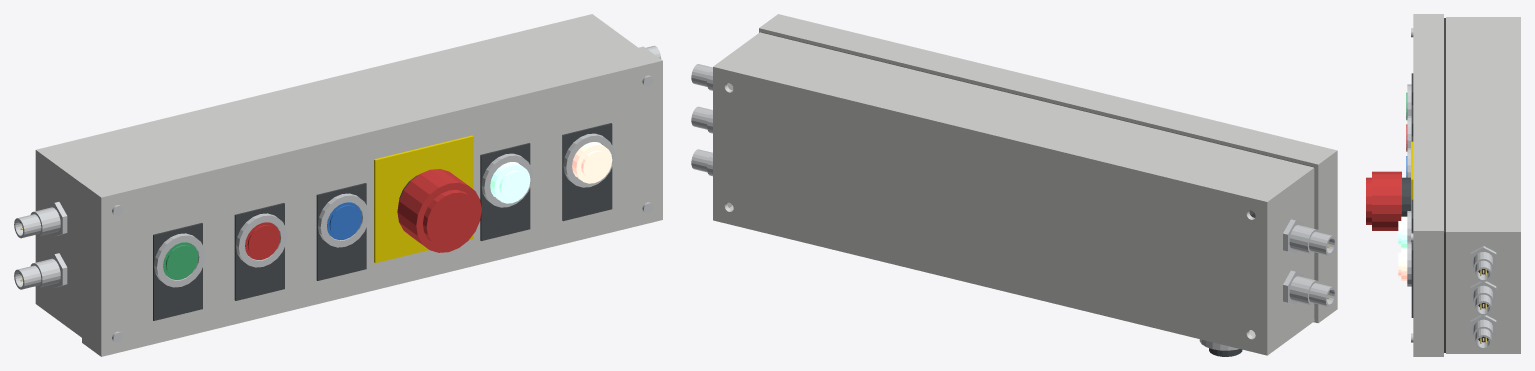
File: pbs-6h-22.glb
The picture shows the model from 3 angles, left to right: view 1: azimuth 30°, elevation 25°; view 2: azimuth 150°, elevation 25°; view 3: azimuth 270°, elevation 25°; orthographic projection. The views are drawn at different scales.
Visible parts, largest first — view 1: lid-1, body, estop-1, lamp-run, lamp-fault, btn-reset, btn-start, btn-stop, s-es, s-x5; view 2: body, lid-1, s-x5, s-es; view 3: body, lid-1, estop-1, lamp-fault, lamp-run, s-x3, s-x1, s-x2.
Boxes of the visible parts, x1=… form: lid-1: x1=82, y1=46, x2=662, y2=356; body: x1=14, y1=14, x2=661, y2=337; estop-1: x1=397, y1=169, x2=481, y2=252; lamp-run: x1=490, y1=162, x2=530, y2=203; lamp-fault: x1=572, y1=142, x2=612, y2=183; btn-reset: x1=327, y1=202, x2=362, y2=240; btn-start: x1=163, y1=242, x2=198, y2=279; btn-stop: x1=245, y1=222, x2=280, y2=259; s-es: x1=30, y1=207, x2=60, y2=236; s-x5: x1=30, y1=258, x2=60, y2=287; body: x1=691, y1=32, x2=1335, y2=356; lid-1: x1=759, y1=14, x2=1337, y2=323; s-x5: x1=1289, y1=276, x2=1319, y2=305; s-es: x1=1289, y1=225, x2=1319, y2=253; body: x1=1444, y1=17, x2=1520, y2=353; lid-1: x1=1402, y1=14, x2=1443, y2=356; estop-1: x1=1366, y1=171, x2=1401, y2=230; lamp-fault: x1=1398, y1=248, x2=1407, y2=280; lamp-run: x1=1398, y1=216, x2=1407, y2=248; s-x3: x1=1473, y1=252, x2=1493, y2=272; s-x1: x1=1473, y1=319, x2=1493, y2=340; s-x2: x1=1473, y1=285, x2=1493, y2=306.
Size of what is drawn, in the model's own units: 0.389 by 0.1075 by 0.1035.
